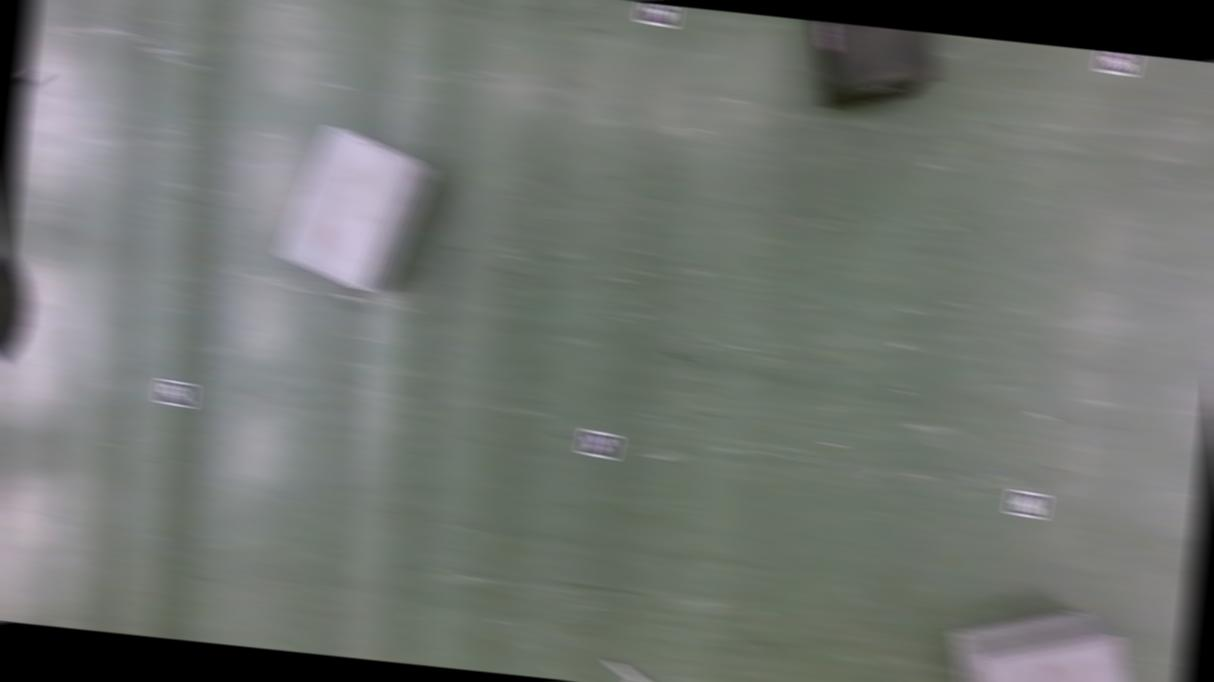probes: (605, 657, 650, 682), (18, 66, 48, 98)
rako: (274, 117, 442, 296), (942, 593, 1146, 682), (796, 19, 944, 118)
